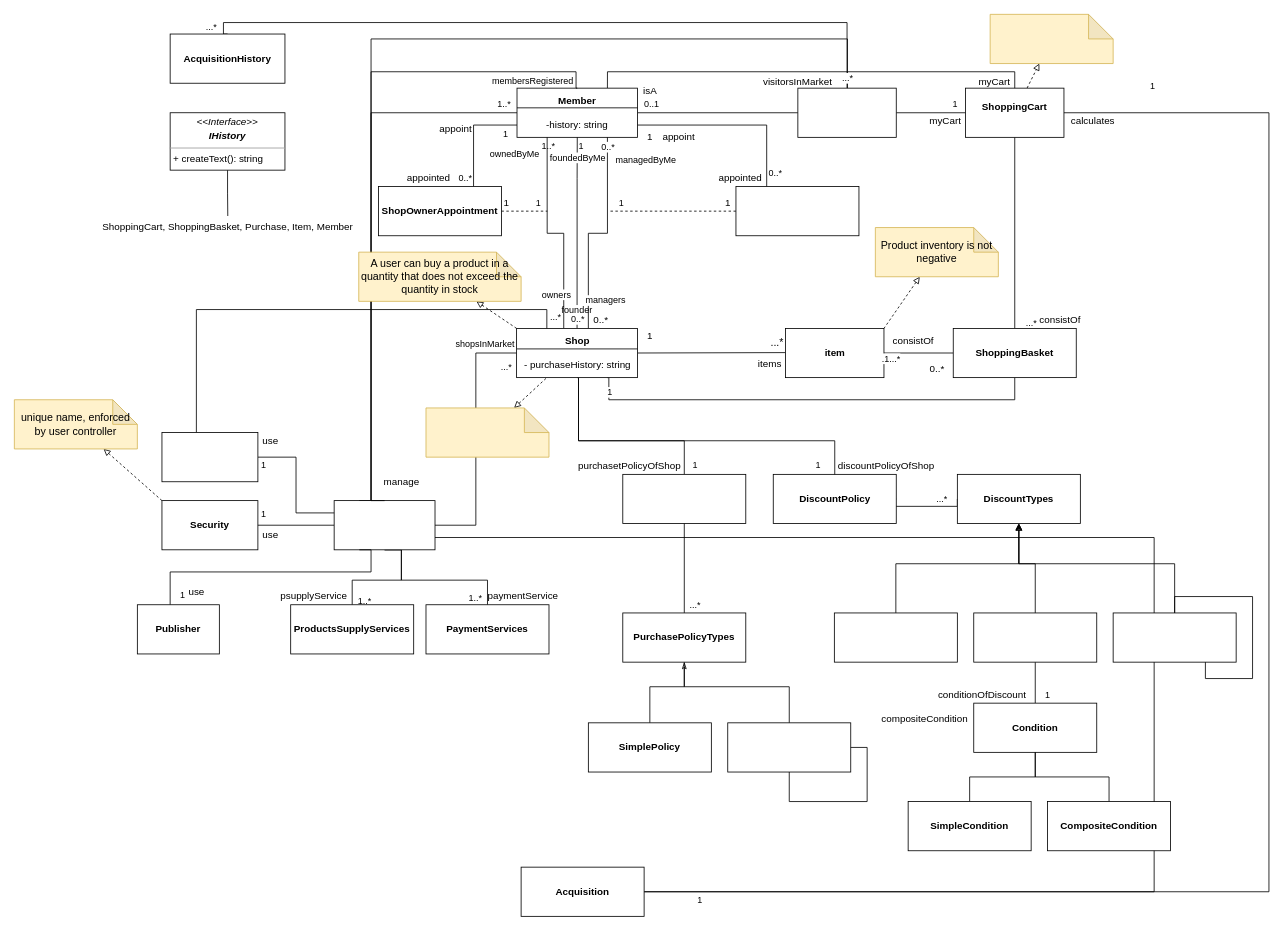
Image size: 1284x931. Some labels were removed from this diagram. Each missing label, with the centre of its shape:
"buyer has at most one shopping basket per shop" belongs at (1051,39).
"ClosedShopHistory" belongs at (209,457).
"CompositeDiscountType" belongs at (1174,637).
"CompositePurchasePolicy" belongs at (789,747).
"ConditionalDiscount" belongs at (1035,637).
"Market" belongs at (384,525).
"PurchasePolicy" belongs at (684,499).
"shop has at least one shop owner" belongs at (487,432).
"ShopManagerAppointment" belongs at (797,211).
"SimpleDiscount" belongs at (895,637).
"Visitor" belongs at (846,112).
